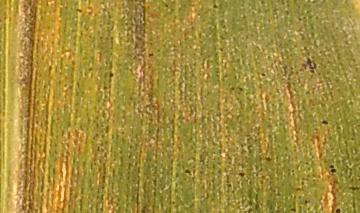tarspot: (305, 56, 317, 76), (347, 185, 360, 193), (183, 168, 193, 177), (74, 6, 83, 14), (320, 119, 329, 127), (211, 3, 219, 10), (329, 168, 337, 175), (237, 171, 245, 178), (264, 155, 271, 163), (288, 207, 297, 213), (229, 85, 236, 92), (147, 51, 155, 57), (328, 163, 336, 169), (334, 208, 343, 213), (108, 71, 114, 78), (237, 86, 244, 92), (218, 46, 225, 52), (260, 71, 266, 77), (304, 198, 308, 205)
